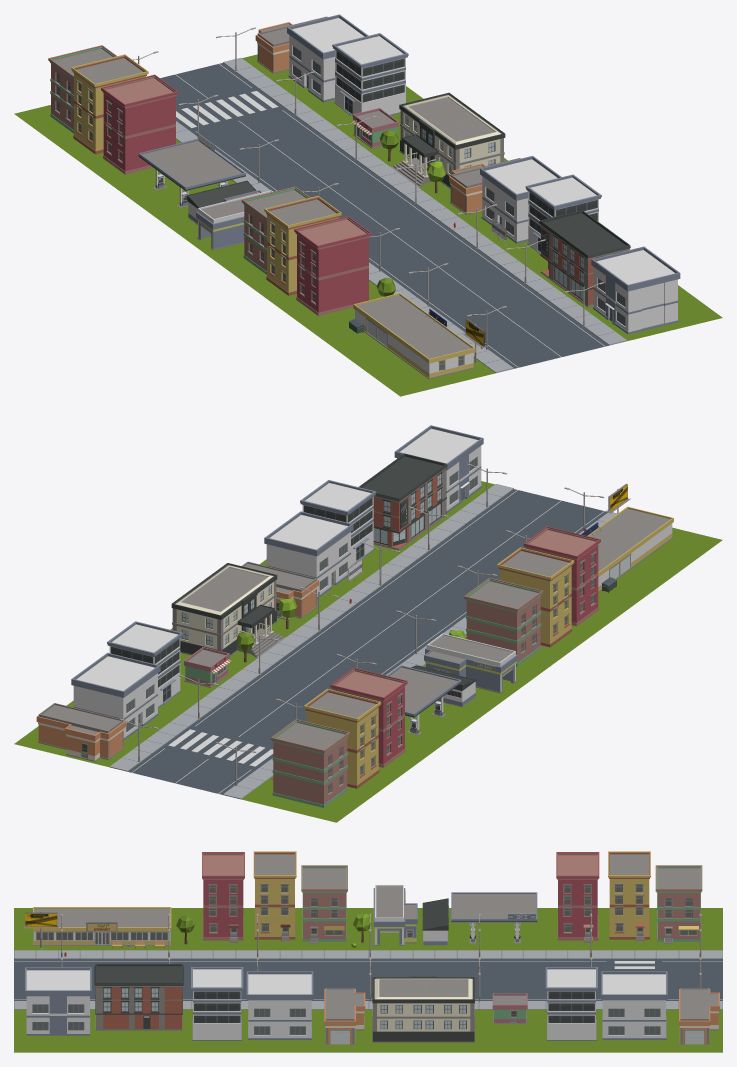
The model's file is LoadCity.fbx.
The picture shows the model from 3 angles, top to bottom: view 1: azimuth 30°, elevation 25°; view 2: azimuth 150°, elevation 25°; view 3: azimuth 270°, elevation 25°; orthographic projection. The views are drawn at different scales.
Parts seen in each view (by area): view 1: sptp_street_light_16, sptp_fire_hydrant_04, sptp_fire_hydrant_03, sptp_building_39; view 2: sptp_street_light_16, sptp_fire_hydrant_03, sptp_building_39, sptp_fire_hydrant_04; view 3: sptp_street_light_16, sptp_fire_hydrant_03, sptp_building_39, sptp_fire_hydrant_04.
Part boxes in pixels (x1=…): sptp_street_light_16: x1=14, y1=14, x2=423, y2=184; sptp_fire_hydrant_04: x1=304, y1=210, x2=722, y2=396; sptp_fire_hydrant_03: x1=207, y1=156, x2=601, y2=325; sptp_building_39: x1=111, y1=92, x2=507, y2=254; sptp_street_light_16: x1=14, y1=621, x2=432, y2=822; sptp_fire_hydrant_03: x1=241, y1=480, x2=625, y2=681; sptp_building_39: x1=170, y1=563, x2=529, y2=751; sptp_fire_hydrant_04: x1=359, y1=425, x2=722, y2=610; sptp_street_light_16: x1=545, y1=851, x2=722, y2=1052; sptp_fire_hydrant_03: x1=191, y1=851, x2=371, y2=1052; sptp_building_39: x1=368, y1=885, x2=545, y2=1052; sptp_fire_hydrant_04: x1=14, y1=907, x2=194, y2=1052.
Bounding box in the file's own units: 5400 × 1130 × 11200.
Materials: 2 (1 with a texture image).
